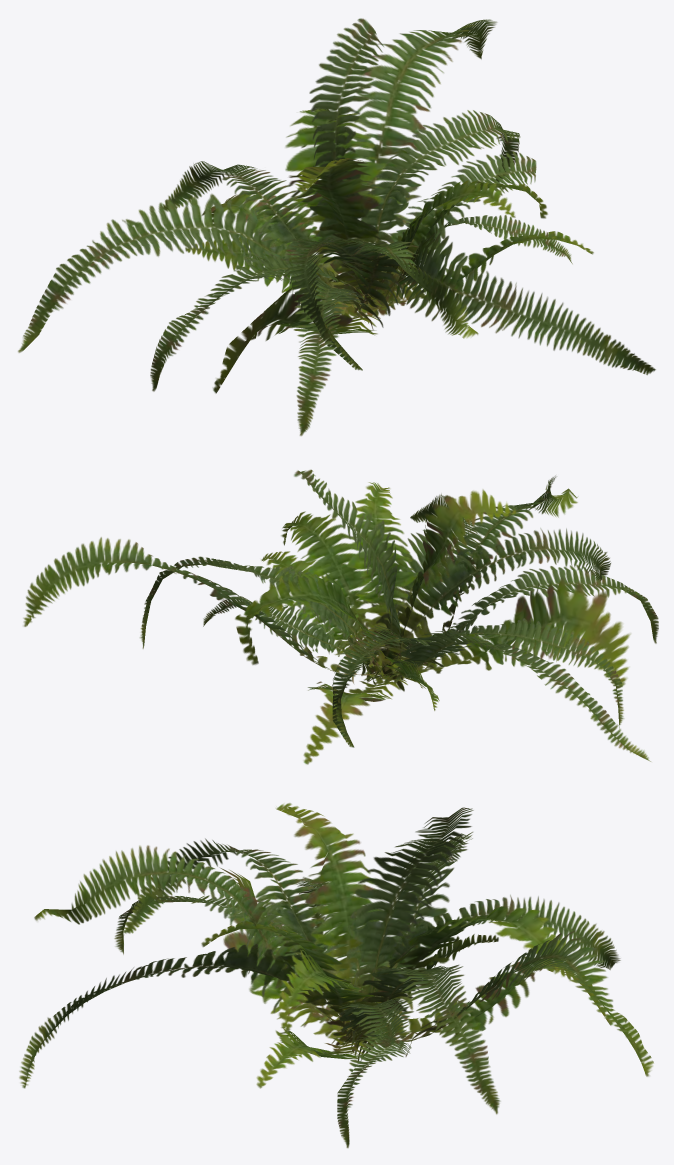
Rendered from fern.glb.
3 views of the same model, one above another, from view 1: azimuth 30°, elevation 25°; view 2: azimuth 150°, elevation 25°; view 3: azimuth 270°, elevation 25° (orthographic). The views are drawn at different scales.
Parts seen in each view (by area): view 1: fern_02_b.001; view 2: fern_02_b.001; view 3: fern_02_b.001.
Part boxes in pixels (left/top/right/bottom): fern_02_b.001: left=18, top=18, right=655, bottom=435; fern_02_b.001: left=23, top=469, right=658, bottom=764; fern_02_b.001: left=19, top=803, right=653, bottom=1148.
Size of the model in its own units: 0.9897 by 0.4277 by 0.8937.
Materials: 1 (1 with a texture image).
